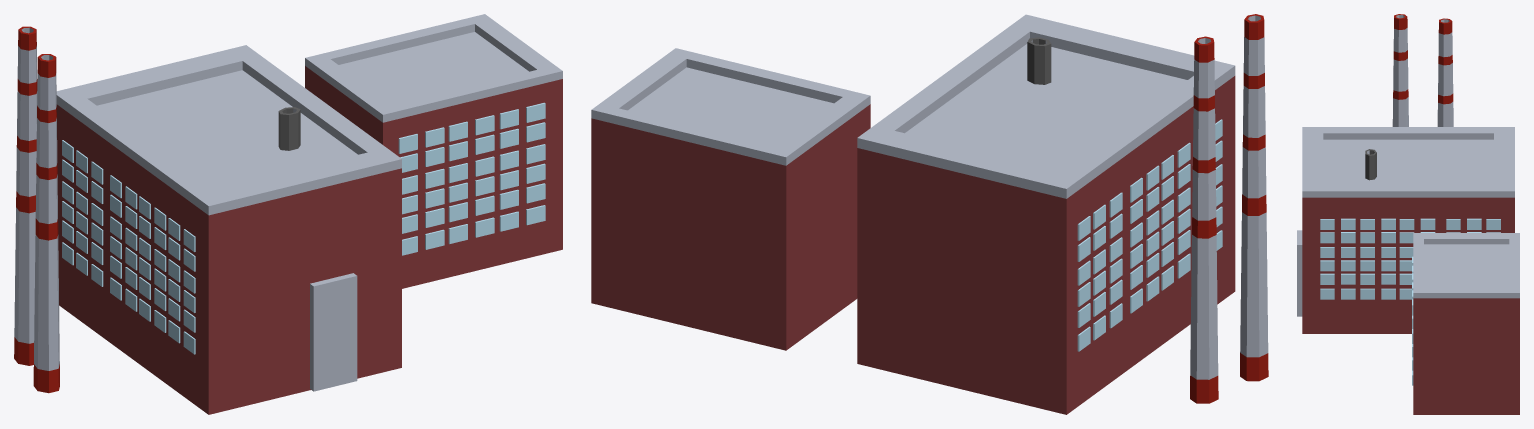
File: fabrikas.fbx
3 renders of one model, left to right at view 1: azimuth 30°, elevation 25°; view 2: azimuth 150°, elevation 25°; view 3: azimuth 270°, elevation 25°, orthographic. The views are drawn at different scales.
Visible parts, largest first — view 1: pastatas2, pastatas, kaminai.002; view 2: pastatas2, pastatas, kaminai.002; view 3: pastatas2, pastatas, kaminai.002.
Boxes of the visible parts, x1,y1,x2,y2 form: pastatas2: (56, 45, 401, 414); pastatas: (305, 14, 562, 288); kaminai.002: (14, 26, 59, 393); pastatas2: (857, 14, 1235, 414); pastatas: (591, 48, 870, 350); kaminai.002: (1190, 14, 1268, 403); pastatas2: (1297, 127, 1514, 333); pastatas: (1412, 233, 1519, 414); kaminai.002: (1392, 14, 1453, 126).
Bounding box in the file's own units: 11927 × 7000 × 6279.
